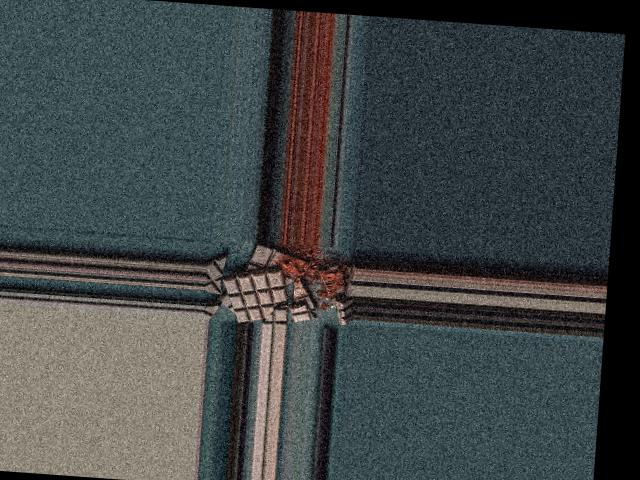chocolate: (218, 264, 288, 325)
